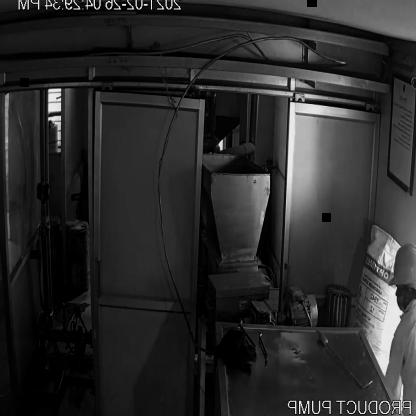helmet: (383, 234, 416, 302)
